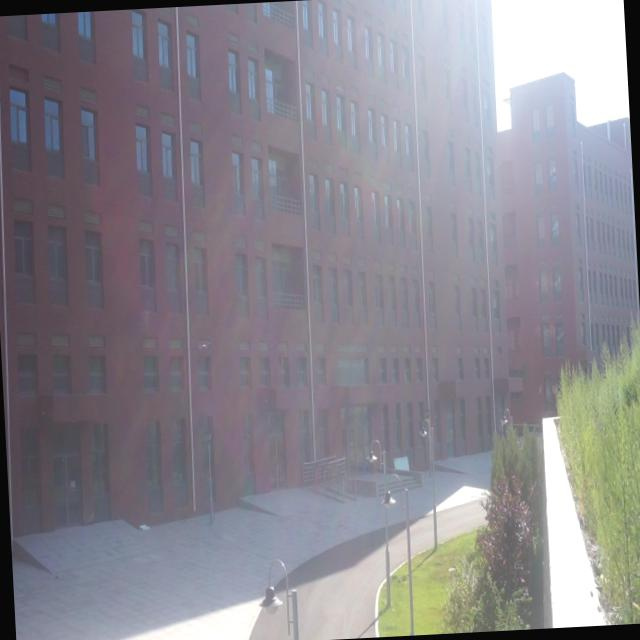drone: (196, 339, 214, 355)
